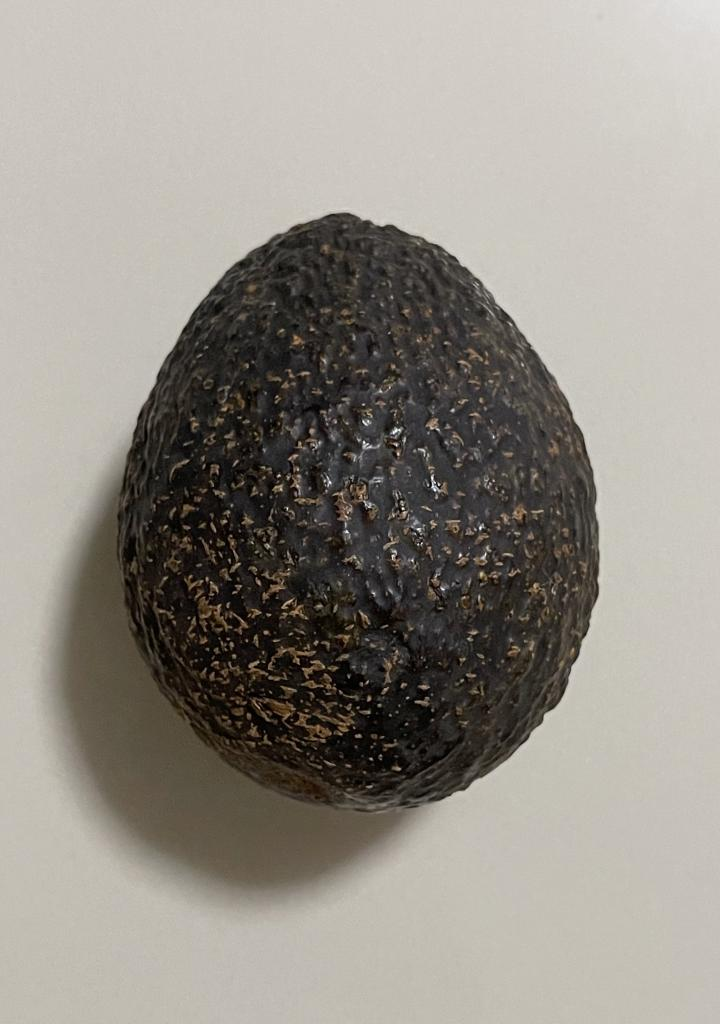Level3: (105, 198, 611, 826)
